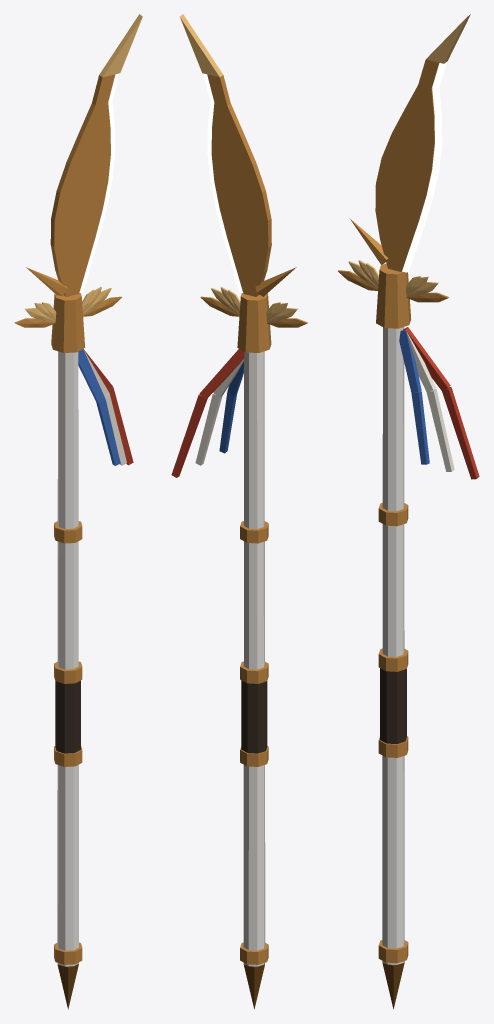
The model's file is guardian_glaive.glb.
3 views of the same model, side by side, from view 1: azimuth 30°, elevation 25°; view 2: azimuth 150°, elevation 25°; view 3: azimuth 330°, elevation 25° (orthographic). The views are drawn at different scales.
Visible parts, largest first — view 1: guardian_glaive; view 2: guardian_glaive; view 3: guardian_glaive.
Part boxes in pixels (x1,y1,x2,y2): guardian_glaive: [14, 14, 142, 1009]; guardian_glaive: [171, 14, 307, 1009]; guardian_glaive: [338, 14, 479, 1009].
Bounding box in the file's own units: 0.4149 × 3.06 × 0.1159.
